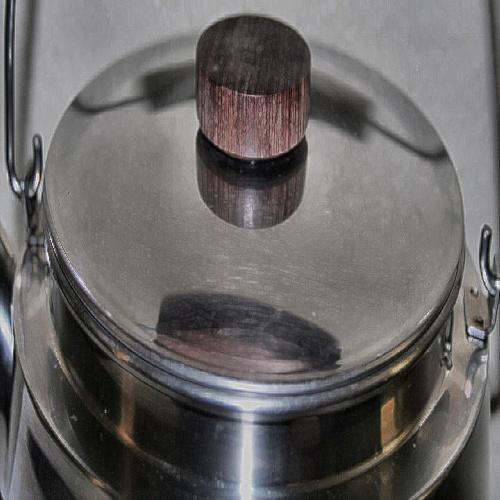kettle: (46, 40, 487, 480)
